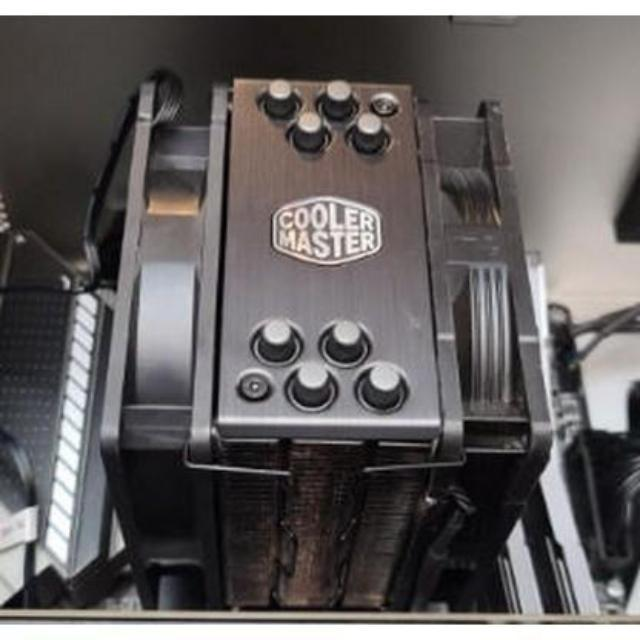CPU_Fan: (114, 75, 549, 640)
